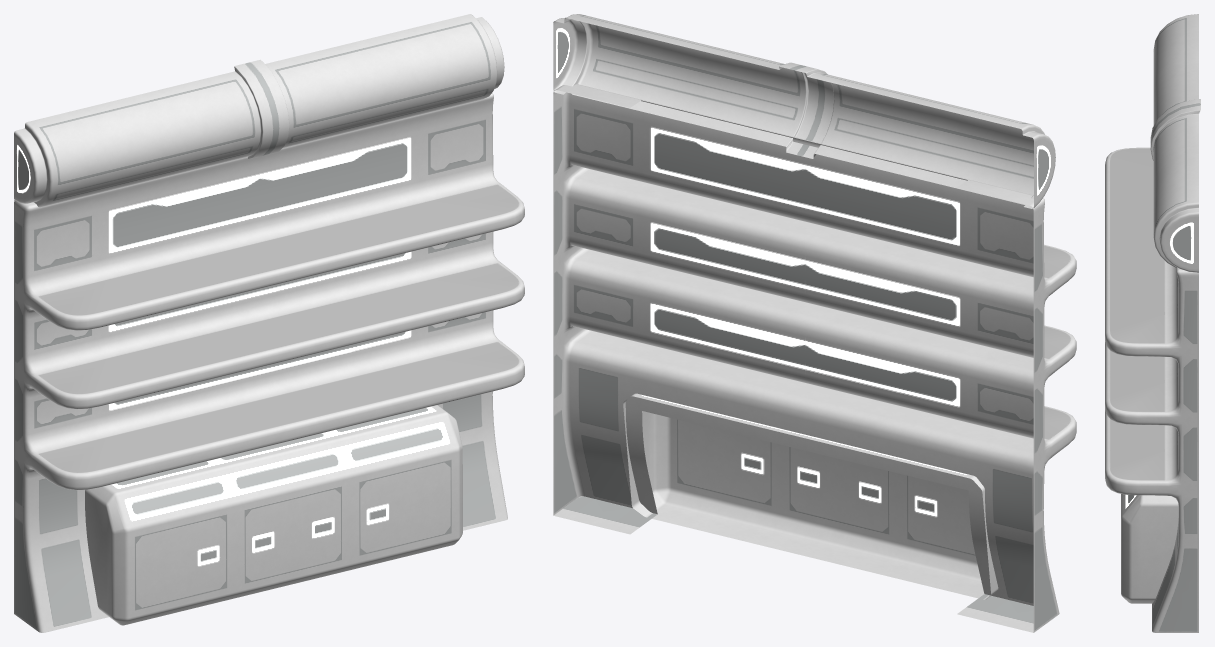
File: BarShelves02.FBX
3 renders of one model, left to right at view 1: azimuth 30°, elevation 25°; view 2: azimuth 150°, elevation 25°; view 3: azimuth 270°, elevation 25°, orthographic. The views are drawn at different scales.
Parts seen in each view (by area): view 1: BarShelves02; view 2: BarShelves02; view 3: BarShelves02.
Part boxes in pixels (x1,y1,x2,y2): BarShelves02: [14, 14, 524, 632]; BarShelves02: [553, 14, 1076, 632]; BarShelves02: [1105, 14, 1200, 632].
Size of what is drawn, in the model's own units: 3.12 by 3.13 by 0.6333.
